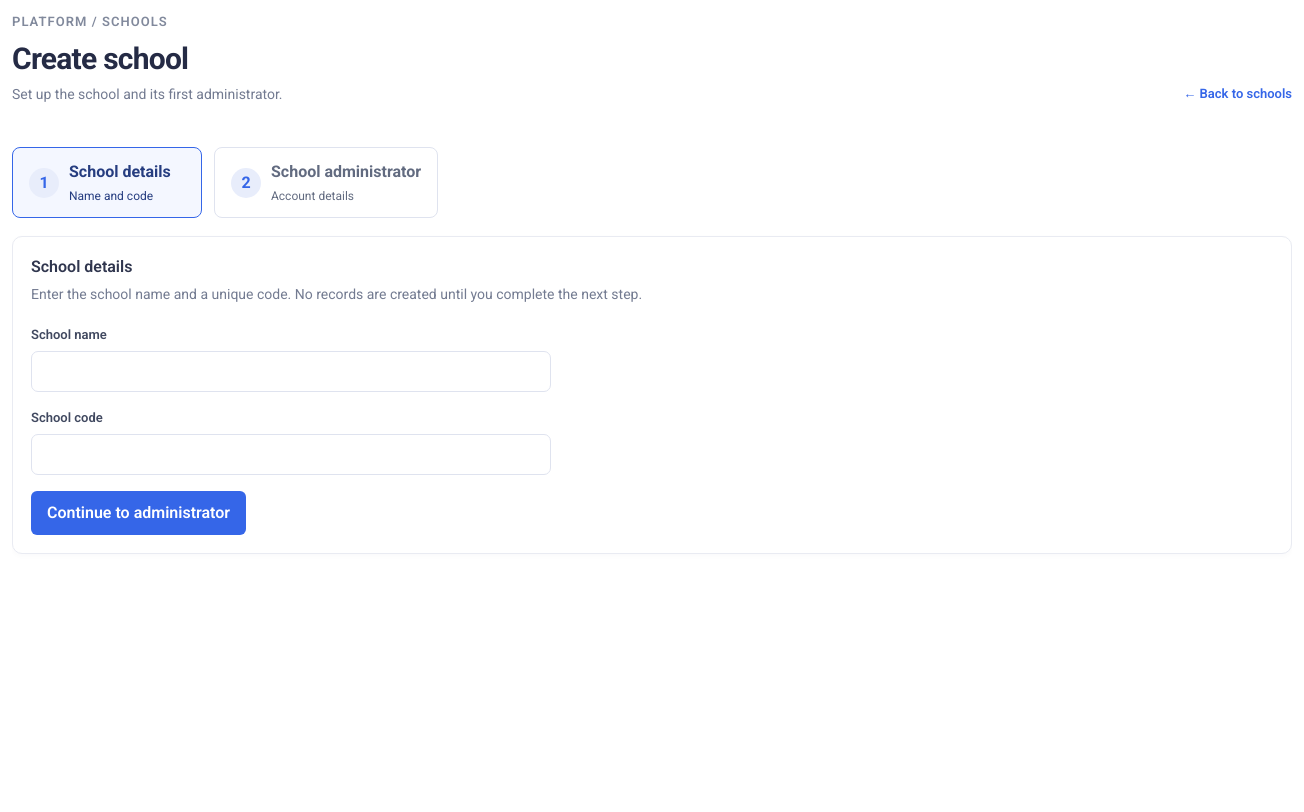
school creation adapter integration › uses the school response ID for the subsequent administrator request
This screenshot has width=1304, height=812.
Step 1. Type "Synthetic School" into the field labelled "School name" → (291, 371), box [31,350,551,392]
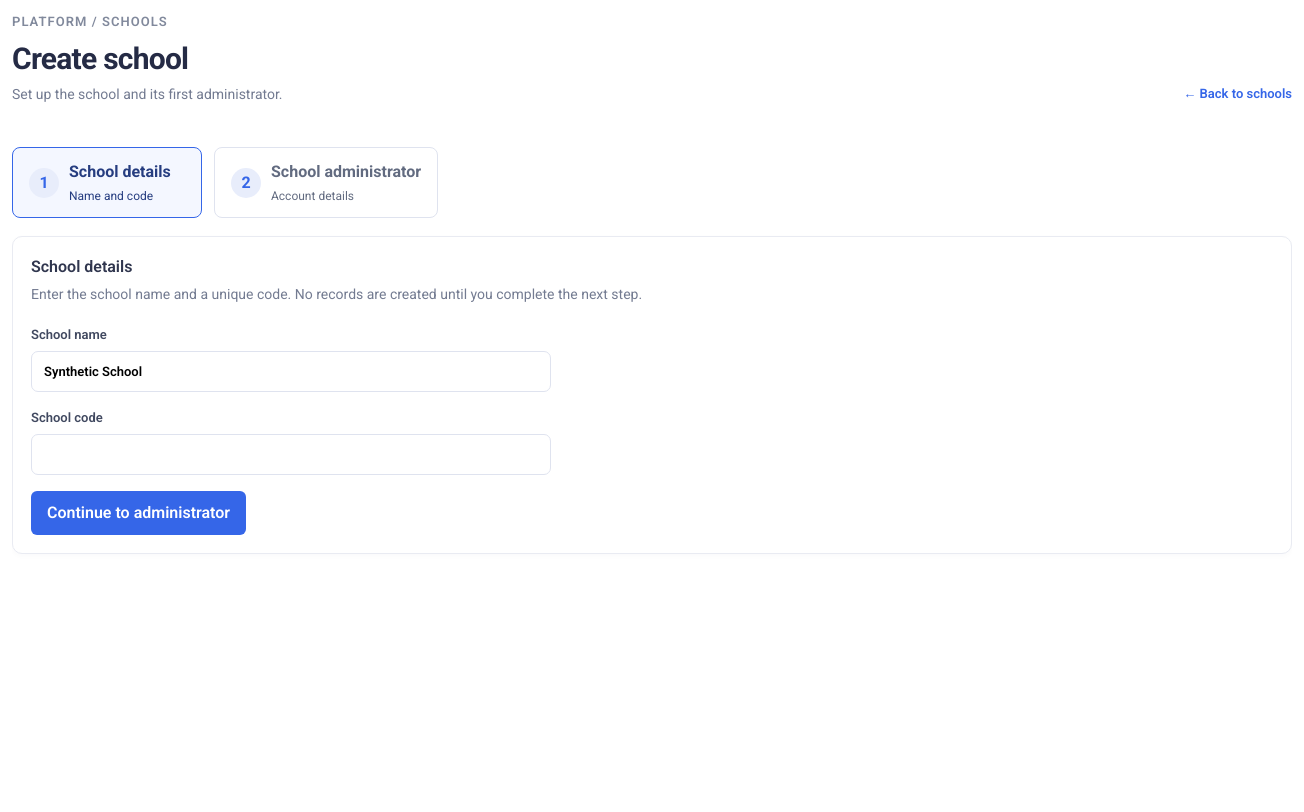
Step 2. Type "SYN" into the field labelled "School code" → (291, 454), box [31,434,551,475]
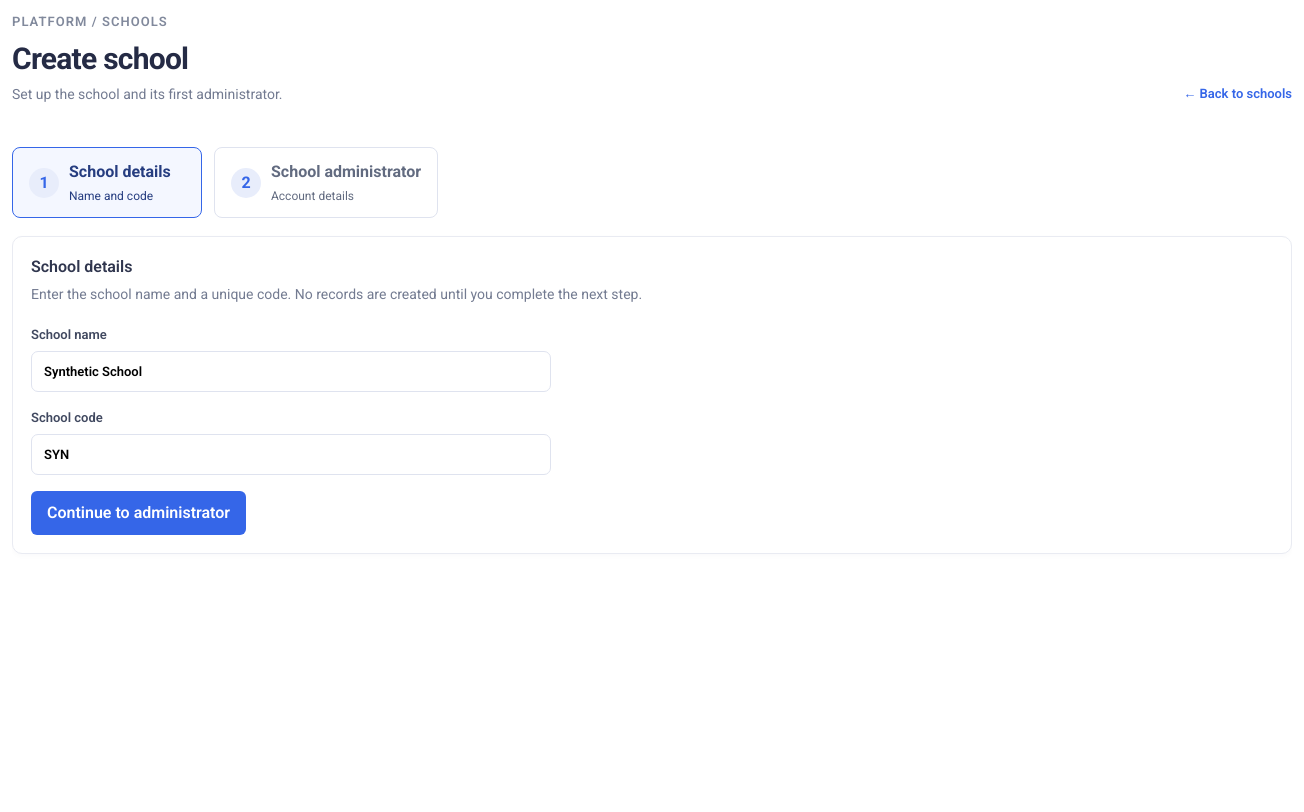
Step 3. Click the button "Continue to administrator" → (139, 513), box [31,491,246,535]
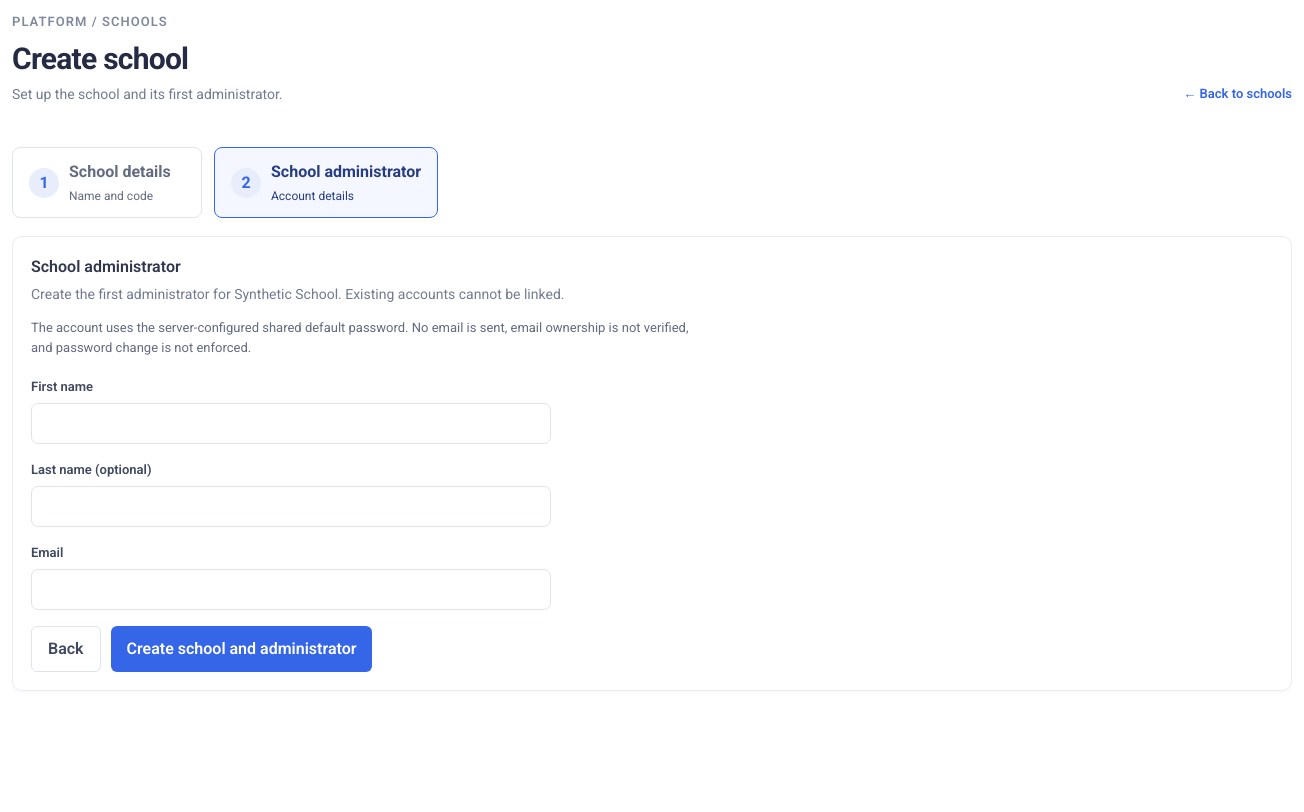
Step 4. Type "Synthetic" into the field labelled "First name" → (291, 423), box [31,402,551,444]
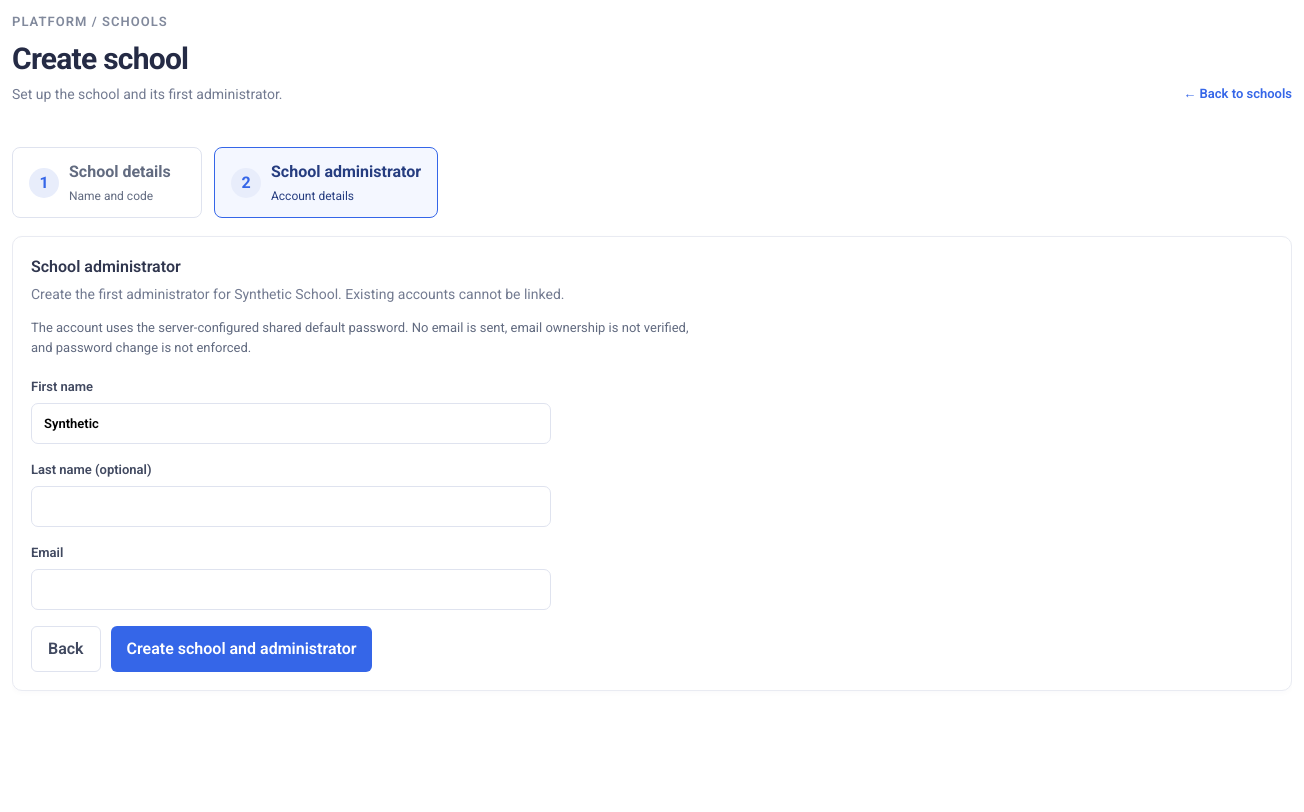
Step 5. Type "admin@example.test" into the field labelled "Email" → (291, 589), box [31,568,551,610]
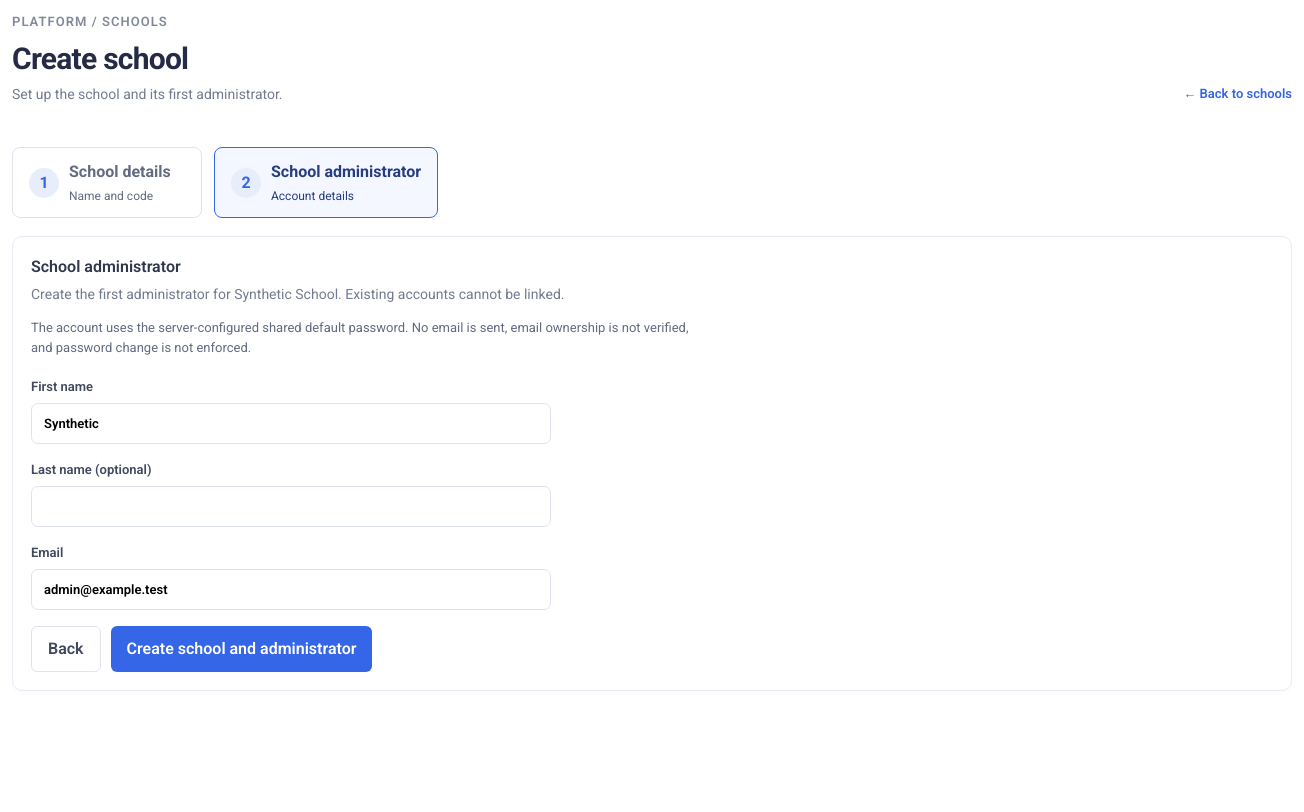
Step 6. Click the button "Create school and administrator" → (241, 649), box [110,626,372,672]
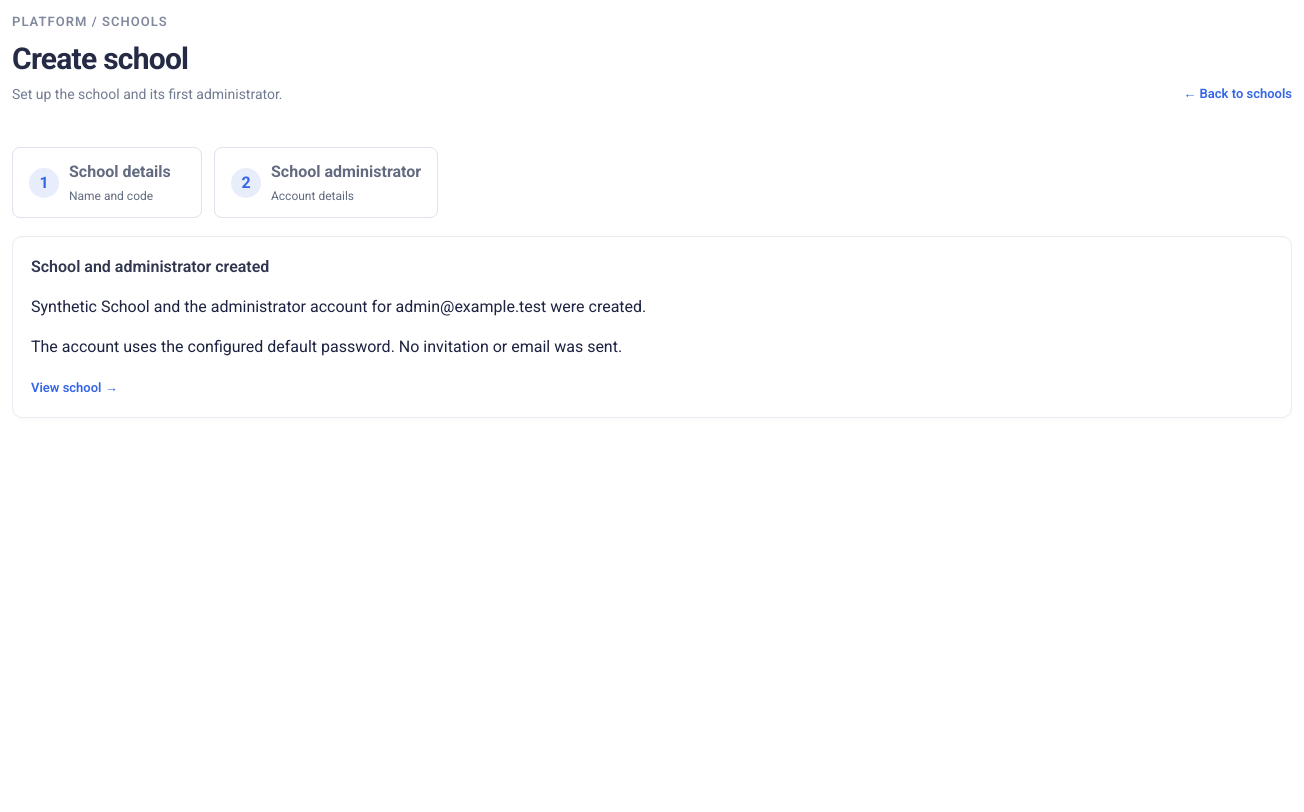
expect the heading "School and administrator created" is shown: met, box [31,255,269,279]
